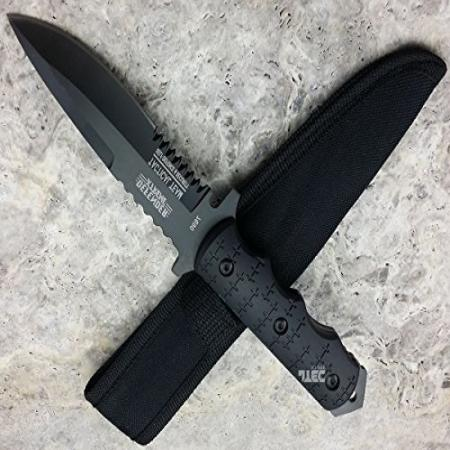long weapon: (1, 10, 213, 255)
